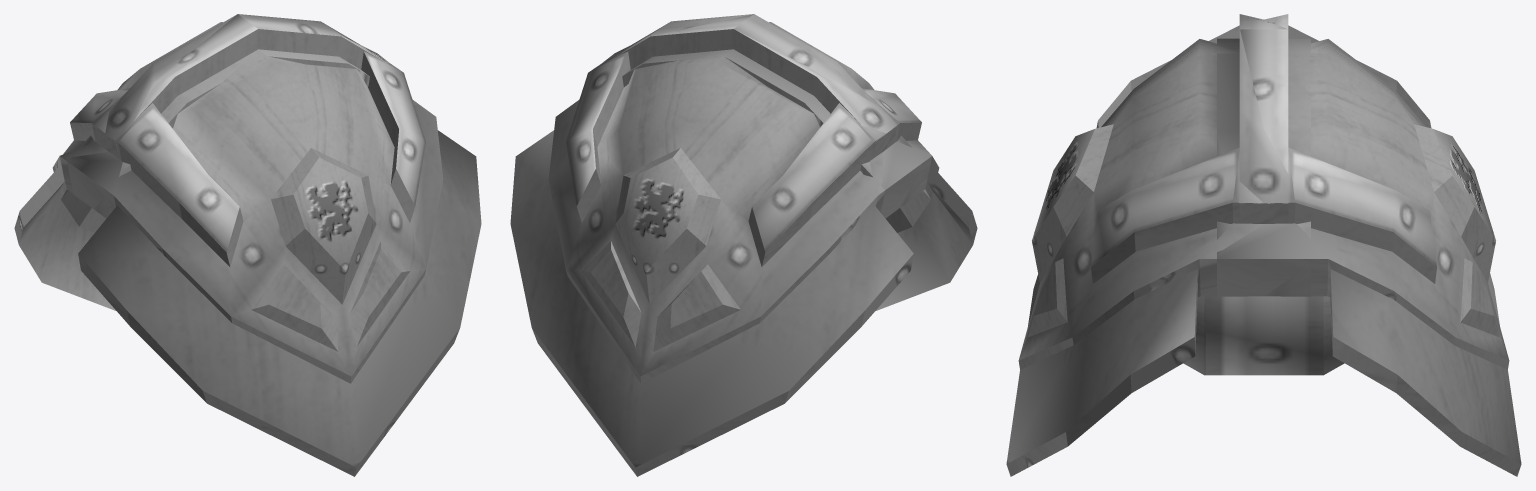
The model's file is KnightShoulders.fbx.
3 renders of one model, left to right at view 1: azimuth 30°, elevation 25°; view 2: azimuth 150°, elevation 25°; view 3: azimuth 270°, elevation 25°, orthographic. The views are drawn at different scales.
Visible parts, largest first — view 1: ShoulderR, ShoulderL; view 2: ShoulderL, ShoulderR; view 3: ShoulderL, ShoulderR.
Part boxes in pixels (x1=…): ShoulderR: x1=67, y1=14, x2=481, y2=476; ShoulderL: x1=14, y1=14, x2=427, y2=310; ShoulderL: x1=510, y1=14, x2=923, y2=476; ShoulderR: x1=575, y1=14, x2=977, y2=310; ShoulderL: x1=1205, y1=14, x2=1521, y2=476; ShoulderR: x1=1006, y1=14, x2=1310, y2=476.
Size of the model in its own units: 122 by 110 by 115.
